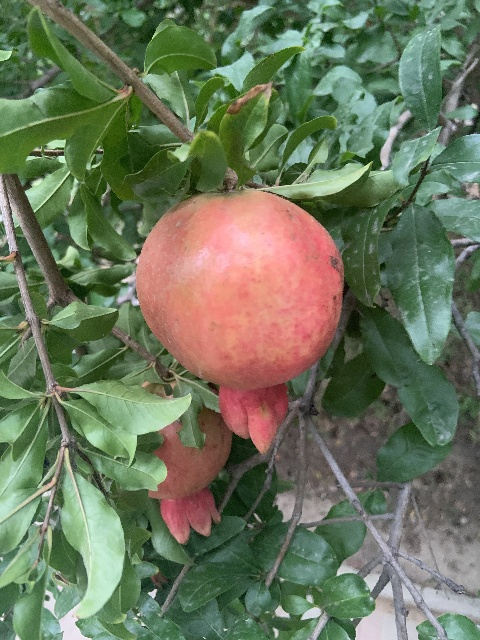ripe: (134, 191, 343, 454), (144, 383, 230, 543)
